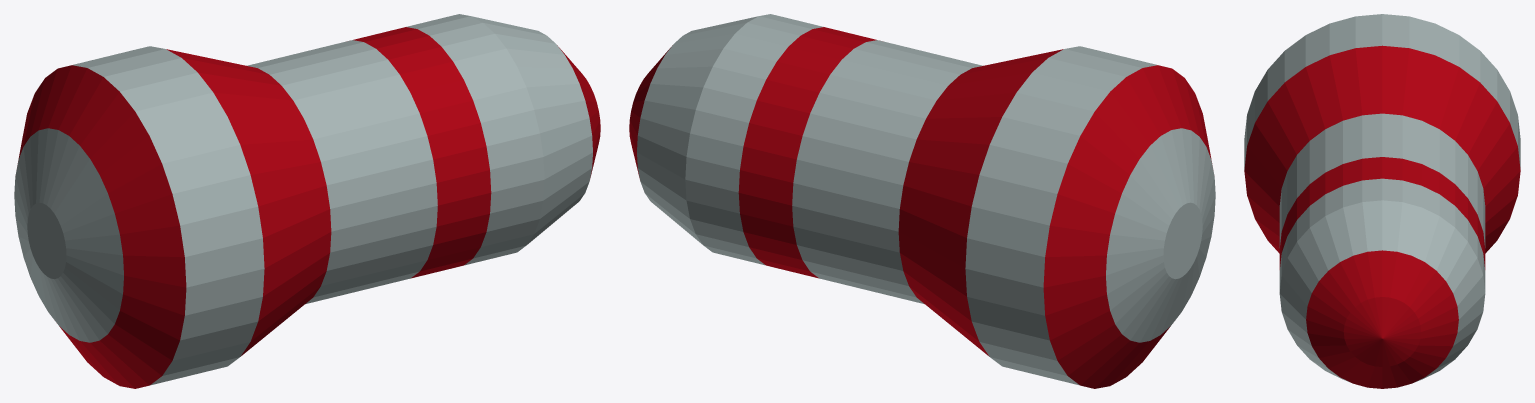
Rendered from ArmorPiercing.fbx.
3 views of the same model, side by side, from view 1: azimuth 30°, elevation 25°; view 2: azimuth 150°, elevation 25°; view 3: azimuth 270°, elevation 25° (orthographic). The views are drawn at different scales.
Visible parts, largest first — view 1: Цилиндр; view 2: Цилиндр; view 3: Цилиндр.
Boxes of the visible parts, box(x1,y1,x2,y2) form: Цилиндр: box(14, 14, 600, 388); Цилиндр: box(629, 14, 1215, 388); Цилиндр: box(1244, 14, 1520, 388).
Size of the model in its own units: 512 by 269 by 269.
